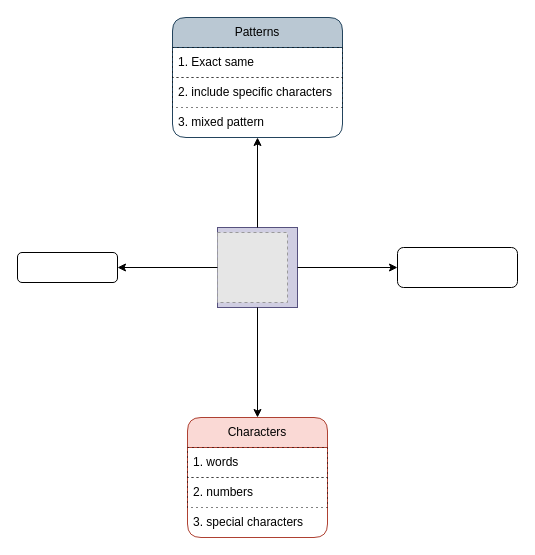
The diagram is 535 pixels wide and 555 high, and some of its shapes have lost their labels. Grey dashed boxes stand in for pictures. Here are the shapes that lost their labels. From the top down, the centre of each, then its label:
At (67,267): "Groups".
At (457,267): "Scope".
